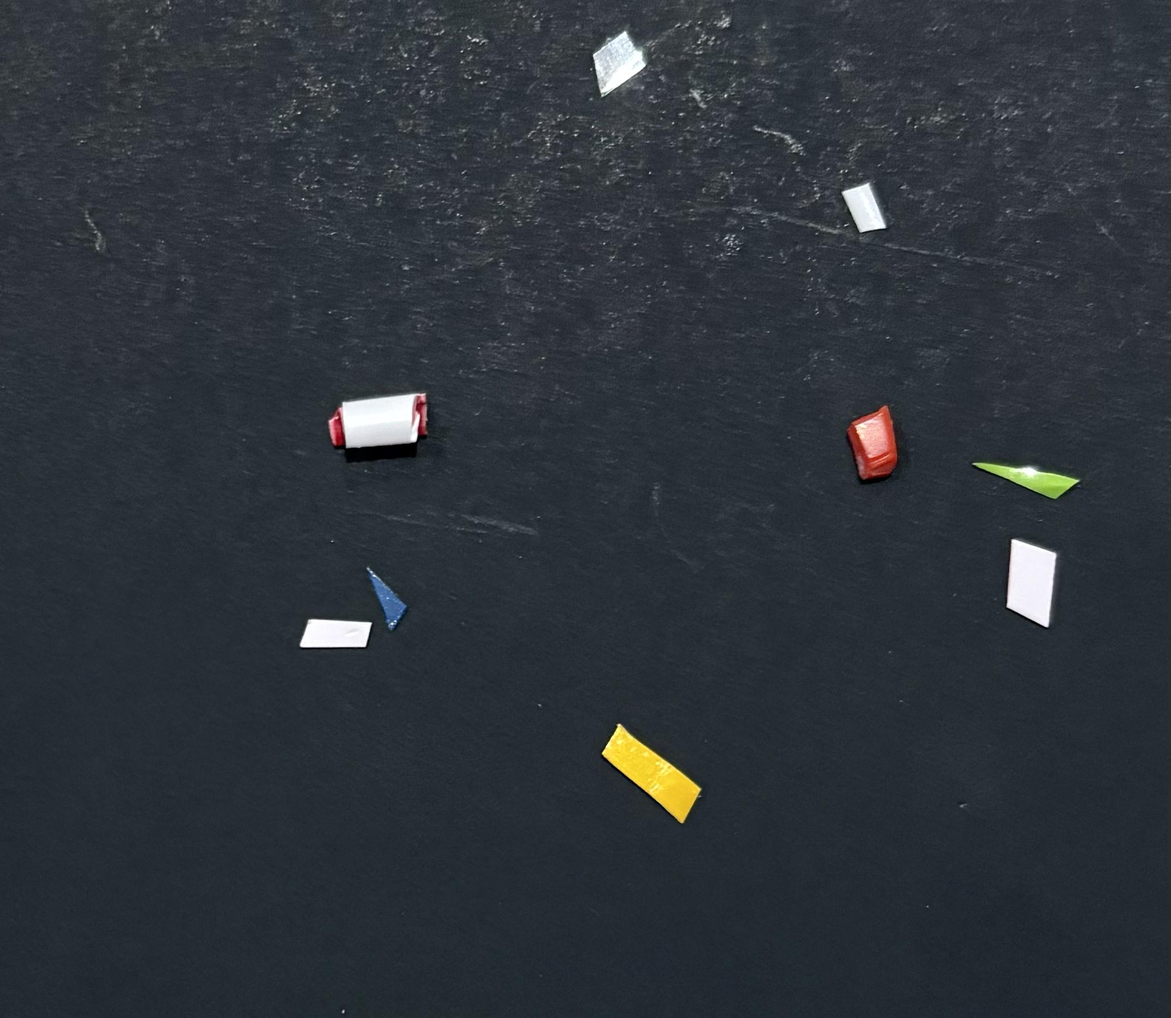Microplastic Particle: (603, 725, 699, 823), (969, 450, 1089, 517), (327, 391, 428, 459), (1007, 539, 1056, 627), (847, 405, 897, 480), (593, 31, 645, 96), (368, 568, 407, 630), (842, 182, 887, 232), (300, 619, 371, 648)
